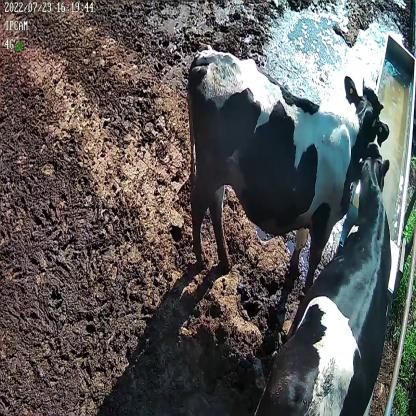cow: (186, 49, 390, 290), (252, 140, 390, 416)
